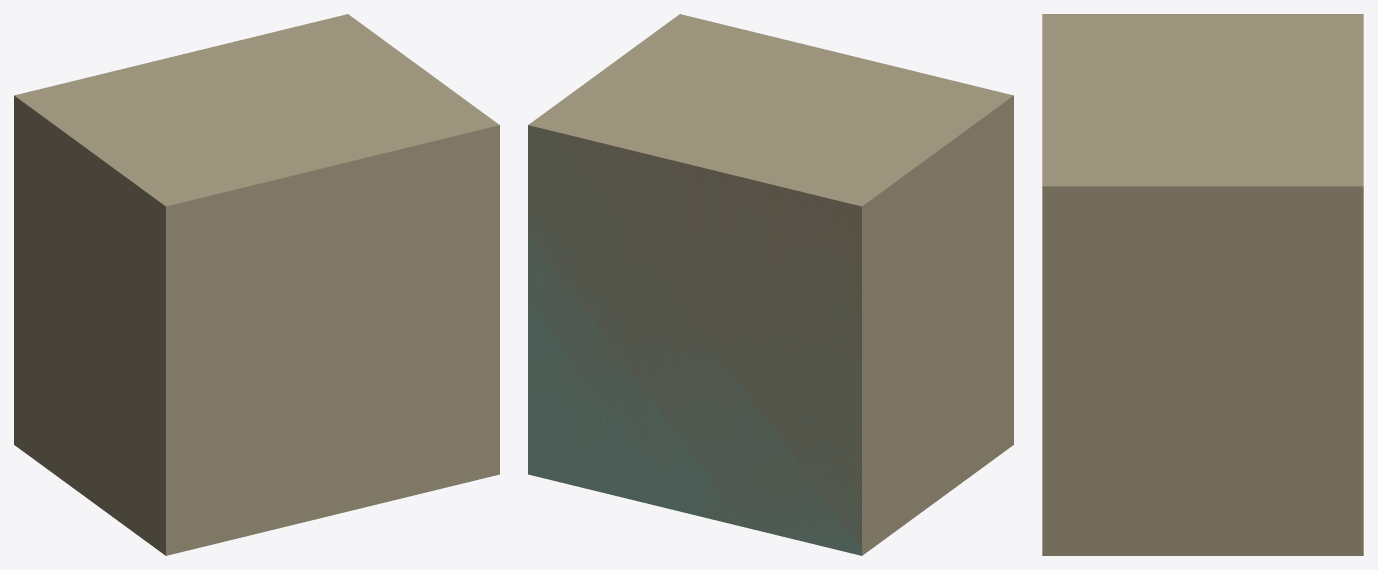
File: pouch-2x3.glb
3 views of the same model, side by side, from view 1: azimuth 30°, elevation 25°; view 2: azimuth 150°, elevation 25°; view 3: azimuth 270°, elevation 25° (orthographic). The views are drawn at different scales.
Visible parts, largest first — view 1: body; view 2: body, md-snap.pals.mount; view 3: body.
Boxes of the visible parts, bbox=[...] form: body: bbox=[14, 14, 499, 555]; body: bbox=[528, 14, 1013, 555]; md-snap.pals.mount: bbox=[528, 129, 861, 555]; body: bbox=[1042, 14, 1363, 555].
Size of the model in its own units: 0.0762 by 0.0762 by 0.06.
